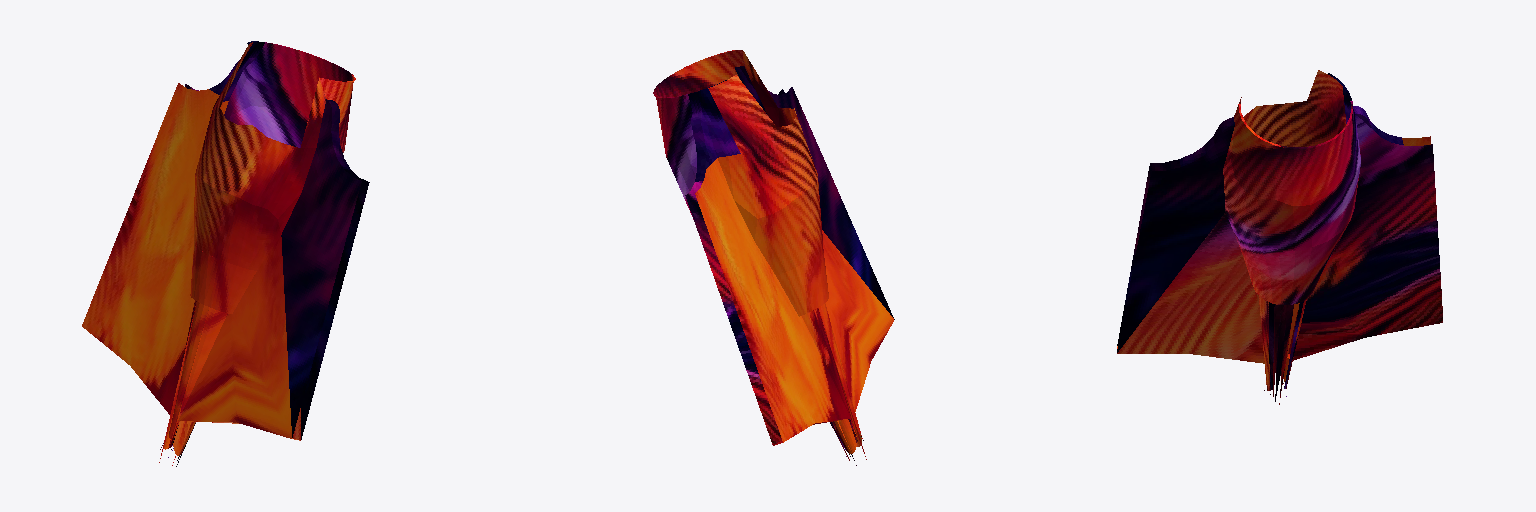
3 renders of one model, left to right at view 1: azimuth 30°, elevation 25°; view 2: azimuth 150°, elevation 25°; view 3: azimuth 270°, elevation 25°, orthographic.
Visible parts, largest first — view 1: cuerpoGua; view 2: cuerpoGua; view 3: cuerpoGua.
Boxes of the visible parts, box(x1,y1,x2,y2) form: cuerpoGua: box(82, 41, 369, 466); cuerpoGua: box(653, 50, 894, 465); cuerpoGua: box(1117, 70, 1442, 404).
Size of the model in its own units: 0.1195 by 0.221 by 0.1704.
1 materials, 1 textured.